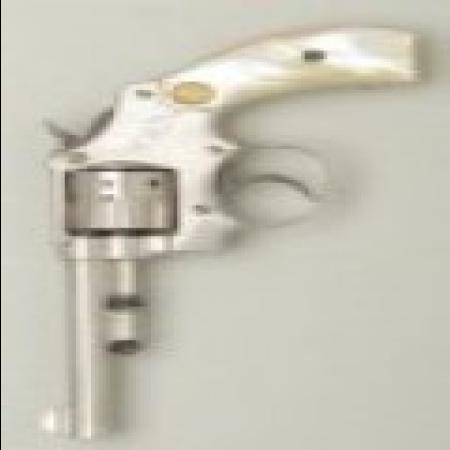Pistol: (30, 25, 416, 433)
